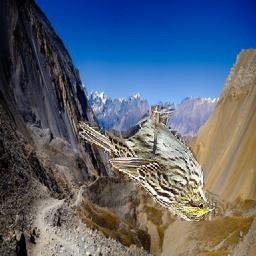Sparrow: (78, 105, 219, 221)
